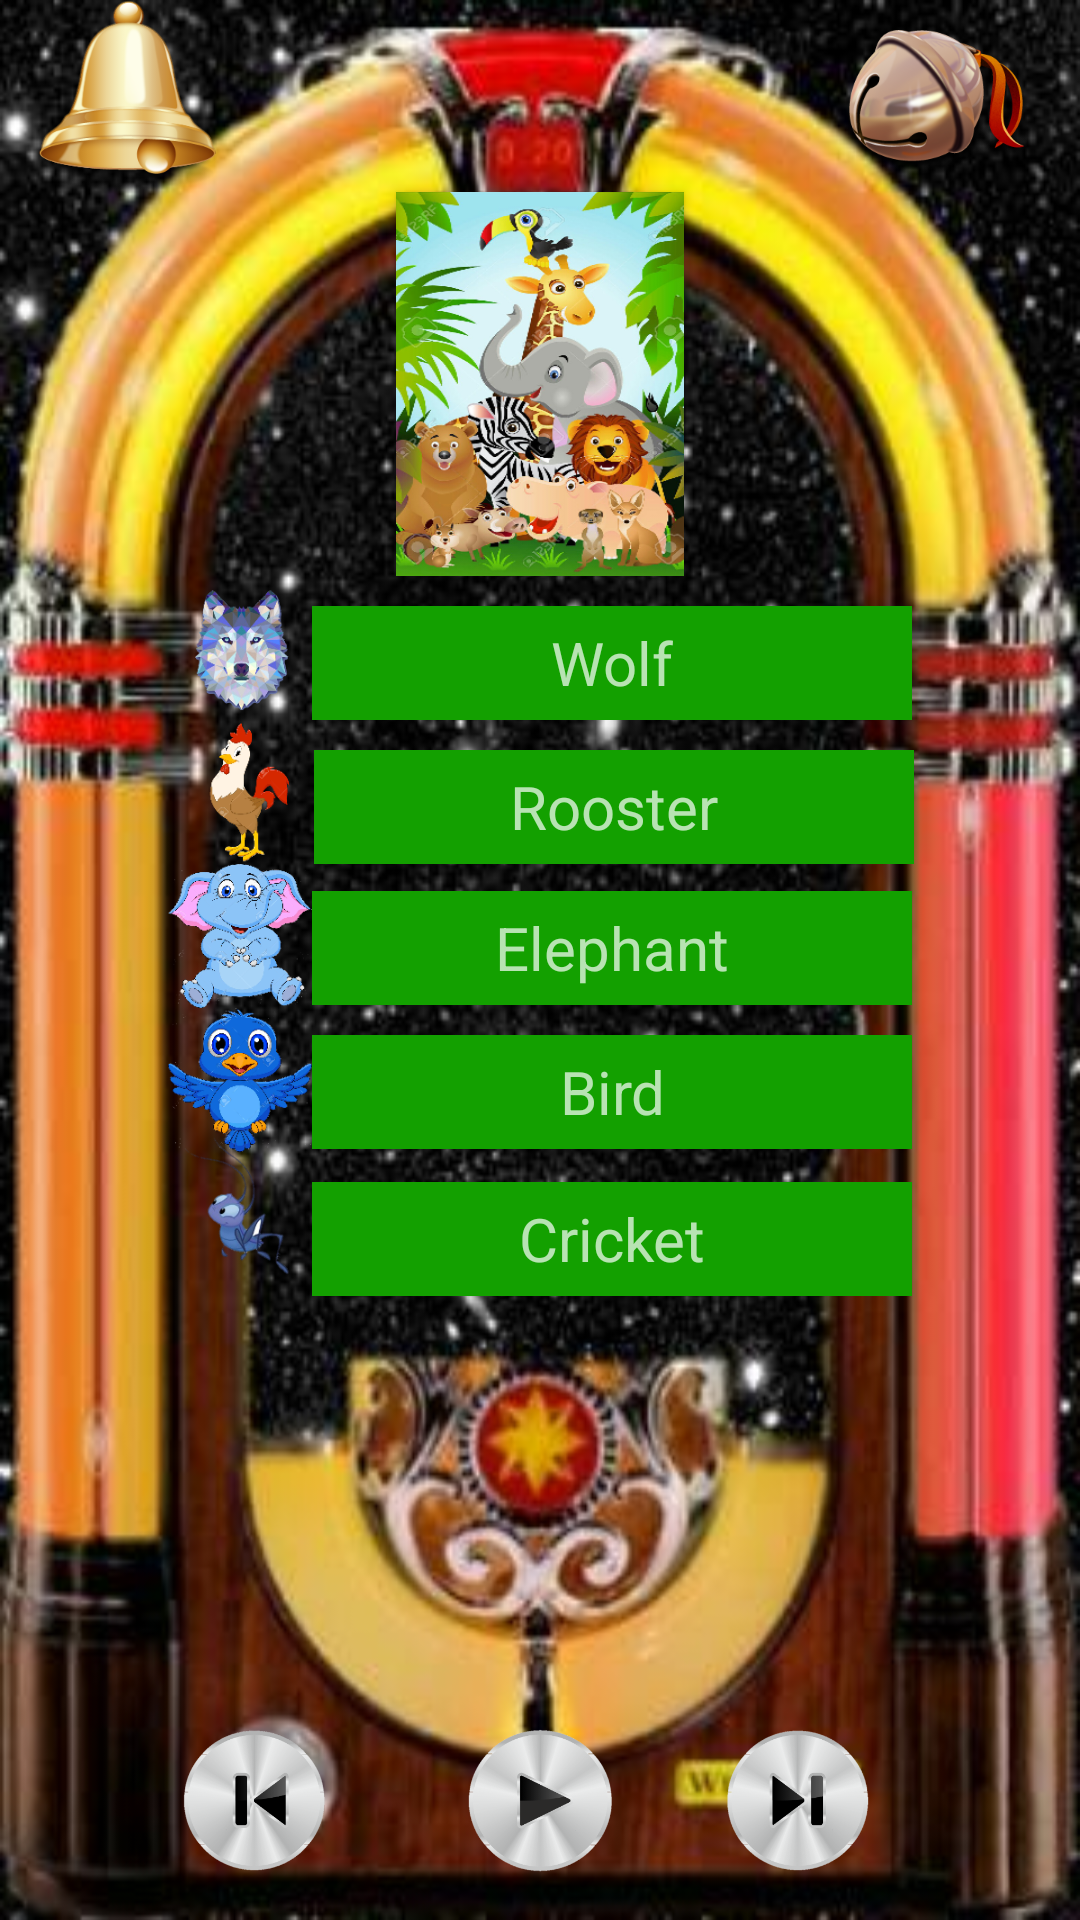

Icons on this 1080w x 1920h Android screen, each with the point to tap as [x,y]:
play: [540,1800]
